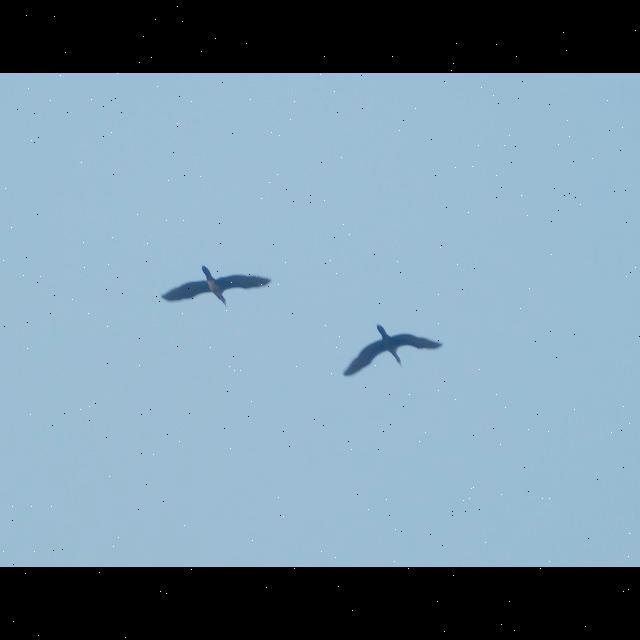cormorant: (344, 320, 444, 376), (156, 262, 272, 310)
